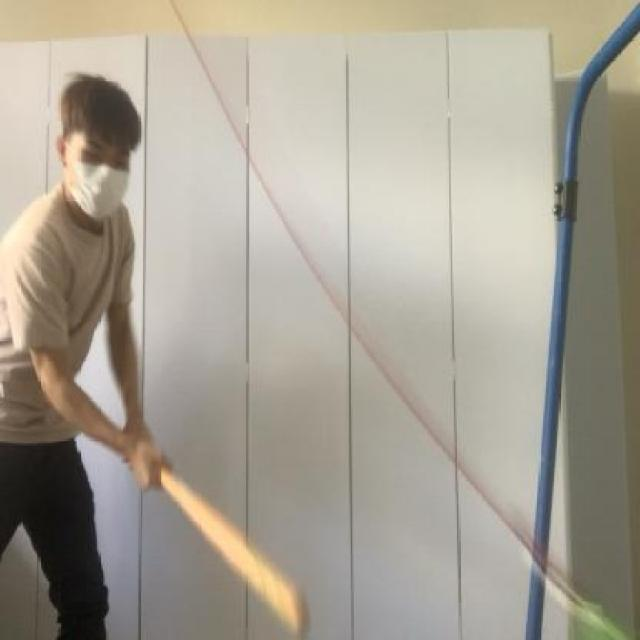baseball: (569, 586, 640, 640)
